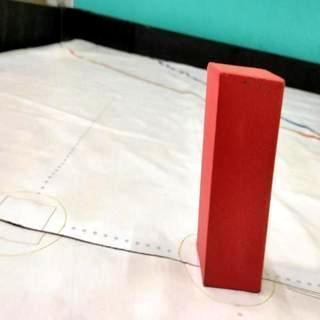redbox: (195, 63, 285, 294)
